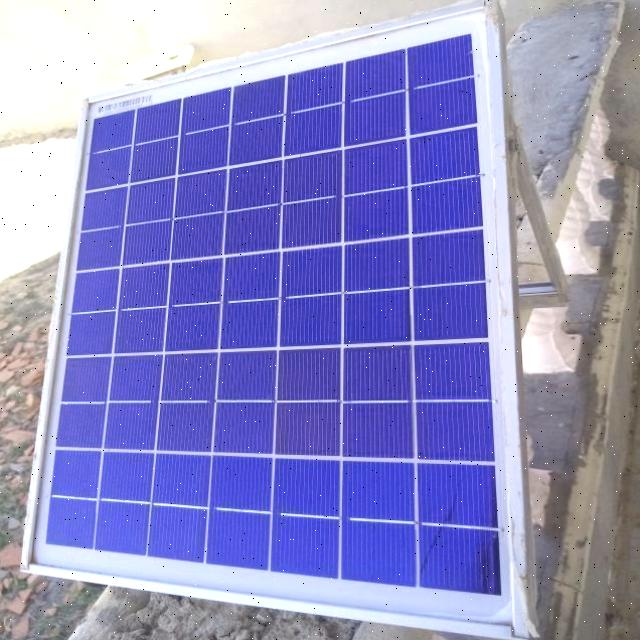Normal Solar Panel: (24, 5, 519, 635)
